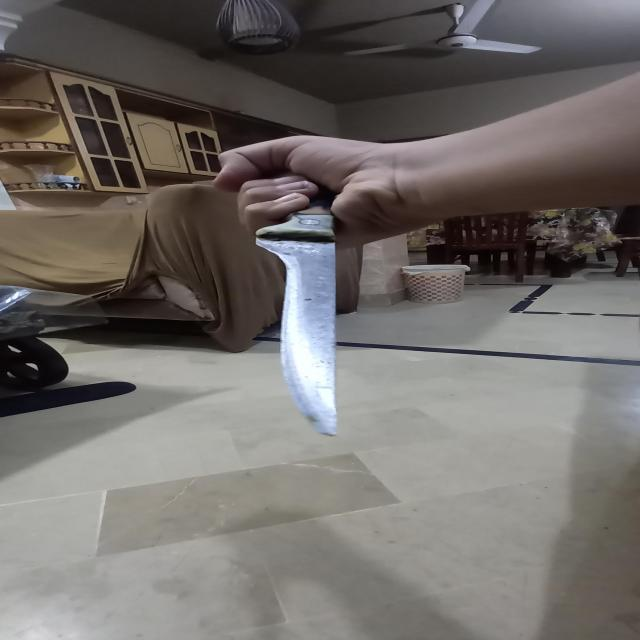faca: (255, 185, 338, 436)
